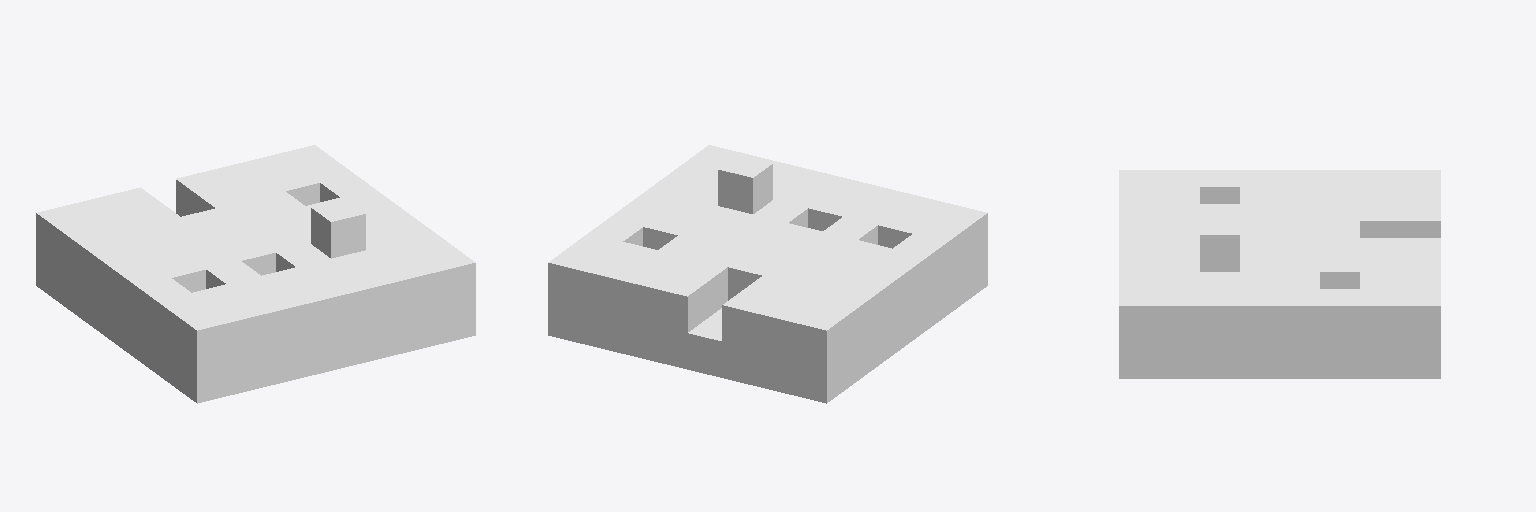
The model's file is GreenCorall14.obj.
3 renders of one model, left to right at view 1: azimuth 30°, elevation 25°; view 2: azimuth 150°, elevation 25°; view 3: azimuth 270°, elevation 25°, orthographic.
Visible parts, largest first — view 1: object 1; view 2: object 1; view 3: object 1.
Boxes of the visible parts, x1=… form: object 1: x1=36, y1=145, x2=475, y2=403; object 1: x1=548, y1=145, x2=987, y2=403; object 1: x1=1119, y1=170, x2=1440, y2=378.
Bounding box in the file's own units: 0.8 × 0.3 × 0.8.